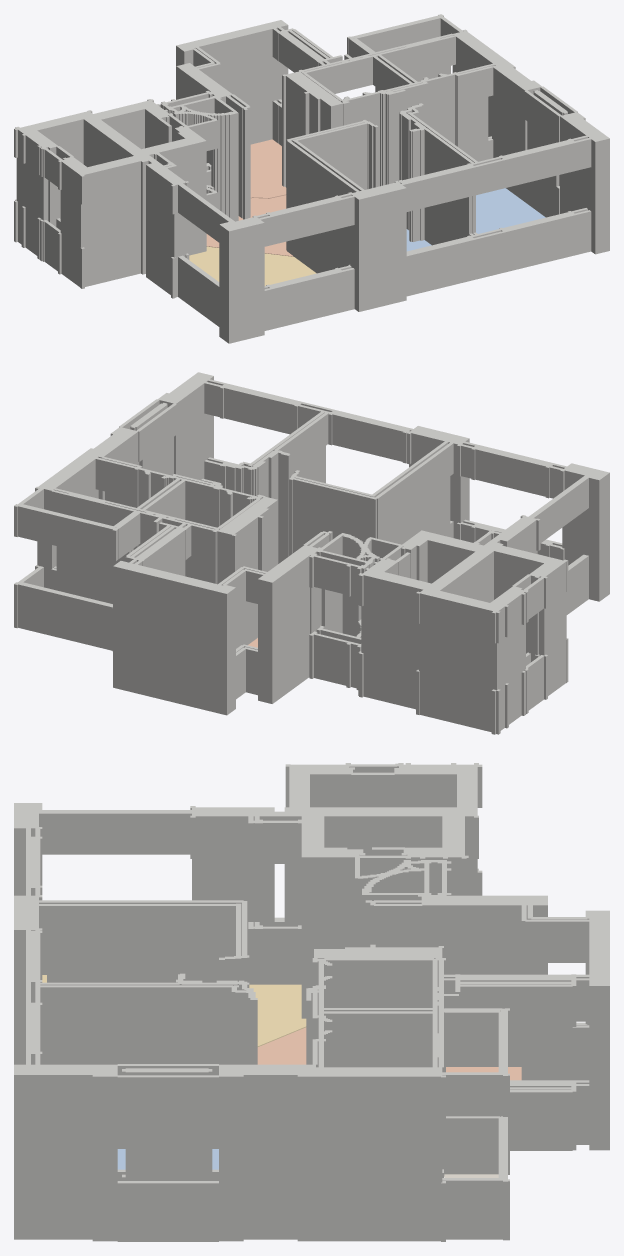
3 renders of one model, top to bottom at view 1: azimuth 30°, elevation 25°; view 2: azimuth 150°, elevation 25°; view 3: azimuth 270°, elevation 25°, orthographic. The views are drawn at different scales.
Parts seen in each view (by area): view 1: walls, room:bedroom:9, room:kitchen:0, room:living:11, room:kitchen:2; view 2: walls; view 3: walls, room:living:11, room:kitchen:2.
Part boxes in pixels (box(x1,y1,x2,y2)): walls: box(14, 14, 609, 343); room:bedroom:9: box(476, 188, 545, 233); room:kitchen:0: box(250, 139, 286, 198); room:living:11: box(189, 246, 316, 285); room:kitchen:2: box(206, 195, 293, 256); walls: box(14, 372, 609, 734); walls: box(14, 763, 609, 1241); room:living:11: box(249, 984, 306, 1046); room:kitchen:2: box(257, 1027, 306, 1064).
Size of the model in its own units: 11.48 by 2.8 by 9.2.
